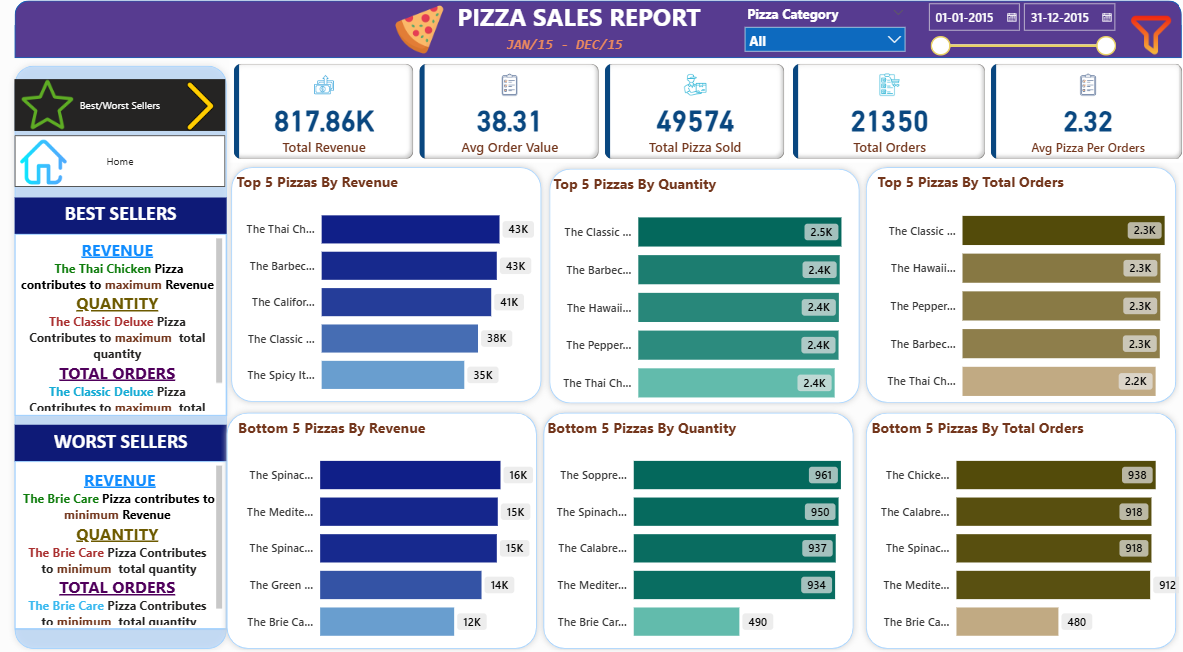

Layout of this report page (visuals, bound fields, positions):
{"tool":"powerbi","page":{"name":"Best/Worst Sellers","canvas":[1573,870],"ordinal":1},"visuals":[{"type":"cardVisual","fields":{"Data":["pizza_sales.Total Revenue","pizza_sales.Avg Order Value","pizza_sales.Total Pizza Sold"]},"box":[306,84,738,136],"z":0},{"type":"cardVisual","fields":{"Data":["pizza_sales.Total Orders","pizza_sales.Avg Pizza Per Orders"]},"box":[1044,84,526,136],"z":1000},{"type":"shape","box":[22,6,1542,76],"z":2000},{"type":"textbox","box":[584,0,366,56],"z":3000},{"type":"textbox","box":[666,48,182,34],"z":4000},{"type":"image","box":[512,6,88,76],"z":5000},{"type":"shape","box":[14,84,296,786],"z":6000},{"type":"textbox","box":[22,266,280,48],"z":7000},{"type":"textbox","box":[22,314,280,240],"z":8000},{"type":"textbox","box":[22,566,280,48],"z":9000},{"type":"textbox","box":[22,614,280,222],"z":10000},{"type":"slicer","fields":{"Values":["pizza_sales.pizza_category"]},"box":[976,6,232,74],"z":11000},{"type":"slicer","fields":{"Values":["pizza_sales.order_date"]},"box":[1216,0,268,84],"z":12000},{"type":"shape","box":[1137.2,218.5,425.2,327],"z":13000},{"type":"shape","box":[719.8,220.4,425.2,325.8],"z":14000},{"type":"shape","box":[300.4,218.5,425.2,325.8],"z":15000},{"type":"shape","box":[1137.2,542.3,425.2,327.7],"z":16000},{"type":"shape","box":[712,542.3,425.2,327.7],"z":17000},{"type":"shape","box":[294.6,542.3,425.2,327.7],"z":18000},{"type":"barChart","title":"Top 5 Pizzas By Revenue","fields":{"Category":["pizza_sales.pizza_name"],"Y":["pizza_sales.Total Revenue"]},"box":[310,232,416,312],"z":19000},{"type":"barChart","title":"Bottom 5 Pizzas By Revenue","fields":{"Category":["pizza_sales.pizza_name"],"Y":["pizza_sales.Total Revenue"]},"box":[312,556,402,314],"z":20000},{"type":"barChart","title":"Top 5 Pizzas By Quantity","fields":{"Category":["pizza_sales.pizza_name"],"Y":["pizza_sales.Total Pizza Sold"]},"box":[728,234,418,322],"z":21000},{"type":"barChart","title":"Bottom 5 Pizzas By Quantity","fields":{"Category":["pizza_sales.pizza_name"],"Y":["pizza_sales.Total Pizza Sold"]},"box":[720,556,426,314],"z":22000},{"type":"barChart","title":"Top 5 Pizzas By Total Orders","fields":{"Category":["pizza_sales.pizza_name"],"Y":["pizza_sales.Total Orders"]},"box":[1156,232,418,322],"z":23000},{"type":"barChart","title":"Bottom 5 Pizzas By Total Orders","fields":{"Category":["pizza_sales.pizza_name"],"Y":["pizza_sales.Total Orders"]},"box":[1148,556,416,314],"z":24000},{"type":"pageNavigator","box":[22,110,278,68],"z":25000},{"type":"pageNavigator","box":[22,184,278,68],"z":26000},{"type":"image","box":[226,108,82,74],"z":27000},{"type":"image","box":[24,176,72,86],"z":28000},{"type":"image","box":[26,104,78,78],"z":29000},{"type":"image","box":[1480,0,84,102],"z":30000}]}

Visuals, with their boxes in screenshot pixels (x1, y1, x2, y2), scaled from the page's 1573x870 canvas onto the 1183x652 screenshot:
cardVisual - pizza_sales.Total Revenue x pizza_sales.Avg Order Value: (left=230, top=63, right=785, bottom=165)
cardVisual - pizza_sales.Total Orders x pizza_sales.Avg Pizza Per Orders: (left=785, top=63, right=1181, bottom=165)
shape: (left=17, top=4, right=1176, bottom=61)
textbox: (left=439, top=0, right=714, bottom=42)
textbox: (left=501, top=36, right=638, bottom=61)
image: (left=385, top=4, right=451, bottom=61)
shape: (left=11, top=63, right=233, bottom=651)
textbox: (left=17, top=199, right=227, bottom=235)
textbox: (left=17, top=235, right=227, bottom=415)
textbox: (left=17, top=424, right=227, bottom=460)
textbox: (left=17, top=460, right=227, bottom=627)
slicer - pizza_sales.pizza_category: (left=734, top=4, right=908, bottom=60)
slicer - pizza_sales.order_date: (left=915, top=0, right=1116, bottom=63)
shape: (left=855, top=164, right=1175, bottom=409)
shape: (left=541, top=165, right=861, bottom=409)
shape: (left=226, top=164, right=546, bottom=408)
shape: (left=855, top=406, right=1175, bottom=651)
shape: (left=535, top=406, right=855, bottom=651)
shape: (left=222, top=406, right=541, bottom=651)
"Top 5 Pizzas By Revenue" barChart: (left=233, top=174, right=546, bottom=408)
"Bottom 5 Pizzas By Revenue" barChart: (left=235, top=417, right=537, bottom=651)
"Top 5 Pizzas By Quantity" barChart: (left=548, top=175, right=862, bottom=417)
"Bottom 5 Pizzas By Quantity" barChart: (left=541, top=417, right=862, bottom=651)
"Top 5 Pizzas By Total Orders" barChart: (left=869, top=174, right=1182, bottom=415)
"Bottom 5 Pizzas By Total Orders" barChart: (left=863, top=417, right=1176, bottom=651)
pageNavigator: (left=17, top=82, right=226, bottom=133)
pageNavigator: (left=17, top=138, right=226, bottom=189)
image: (left=170, top=81, right=232, bottom=136)
image: (left=18, top=132, right=72, bottom=196)
image: (left=20, top=78, right=78, bottom=136)
image: (left=1113, top=0, right=1176, bottom=76)
